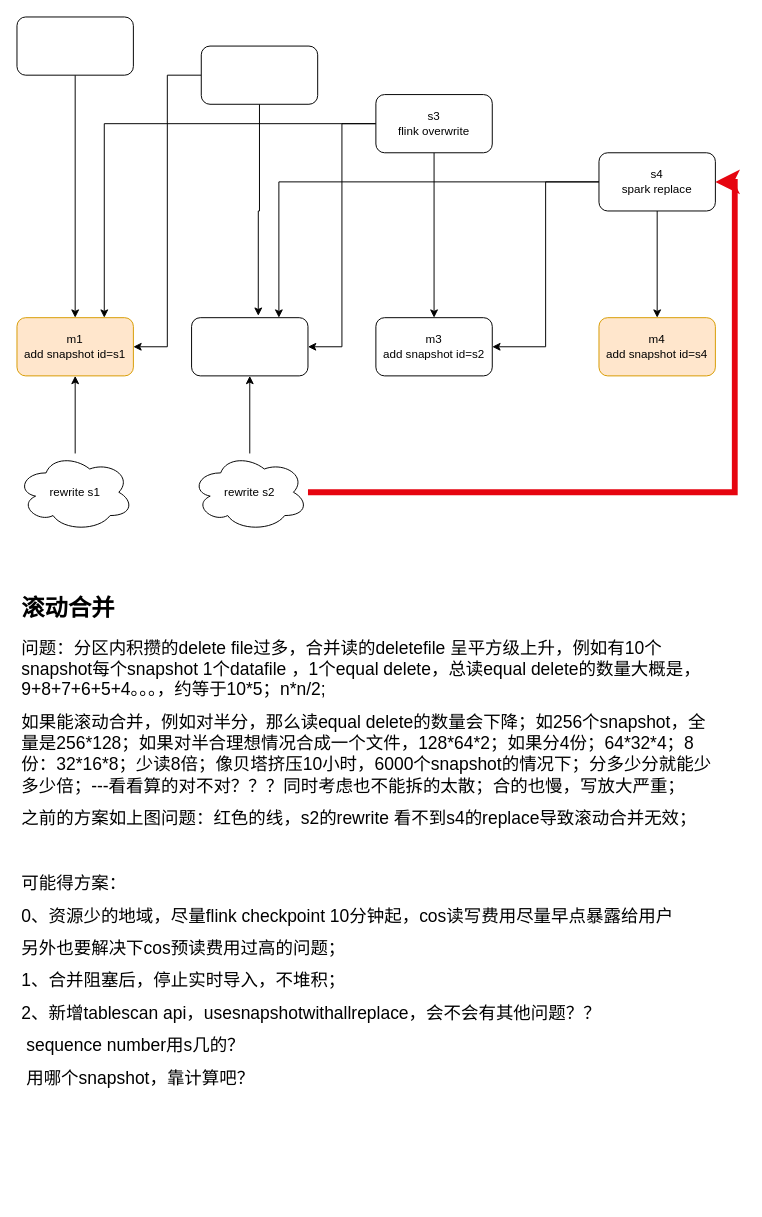
Image size: 762x1217. Some labels were removed from this diagram. Here are the shapes that lost their labels. From the top down, the centre of each, then its label:
At (x=74, y=45): "s1 -flink overwrite".
At (x=259, y=74): "s2 flink overwrite".
At (x=249, y=346): "m2 add snapshot id=s2".
